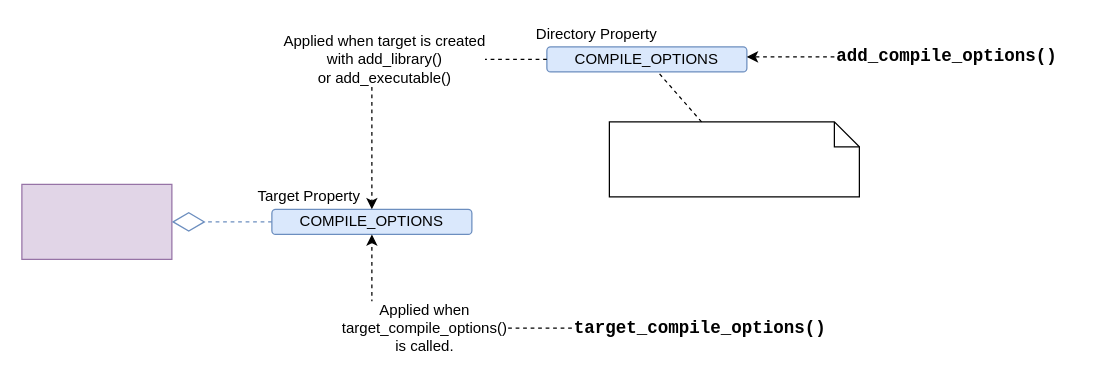
Some shapes in this 1094 by 376 pixel diagram are drawn without their labels. Here are the shapes that lost their labels. From the top down, the centre of each, then its label:
At pixel 733 159: "Applies to all targets created at this level of CMakeLists.txt and below.".
At pixel 96 221: "library target".
